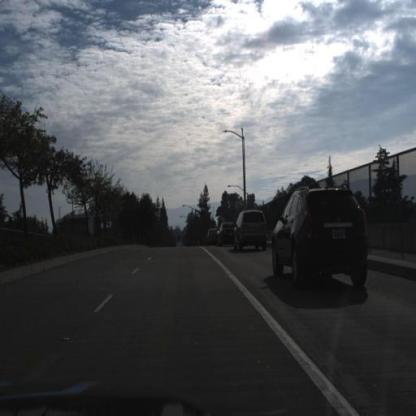car: (271, 180, 375, 292), (232, 209, 270, 252), (217, 221, 238, 245), (218, 222, 233, 246), (208, 226, 220, 246), (208, 229, 218, 248)
